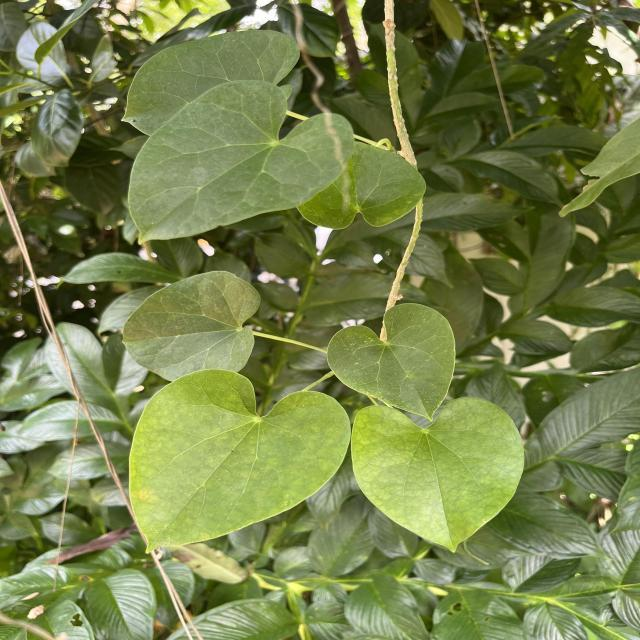Tinospora cordifolia: (126, 366, 353, 558), (125, 76, 359, 246), (351, 394, 528, 555), (117, 268, 264, 382), (324, 301, 458, 424)
